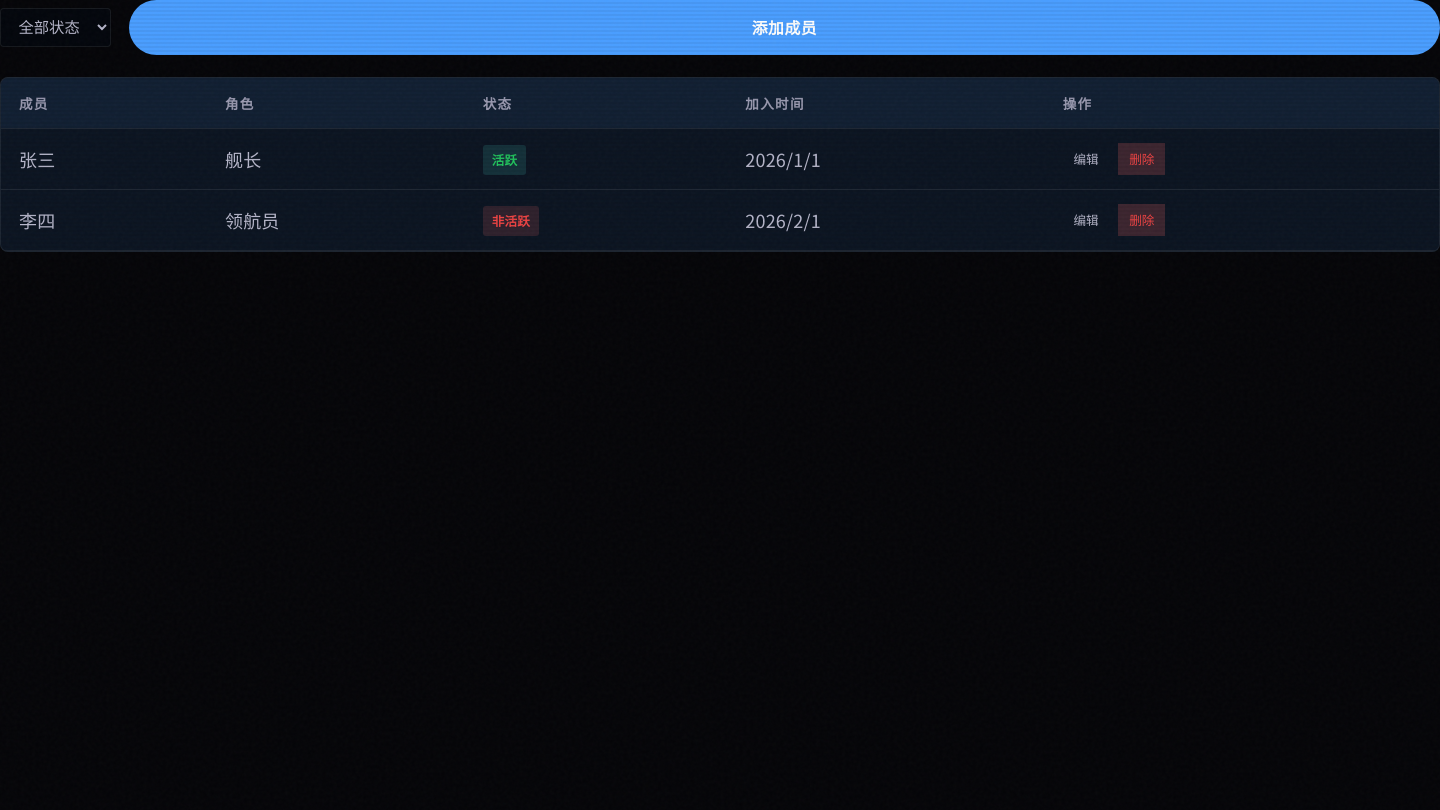
MembersAdmin 视图 › 点击「添加成员」应打开空表单弹窗
Click the button "添加成员" at (784, 27), box 129,0 -> 1439,54
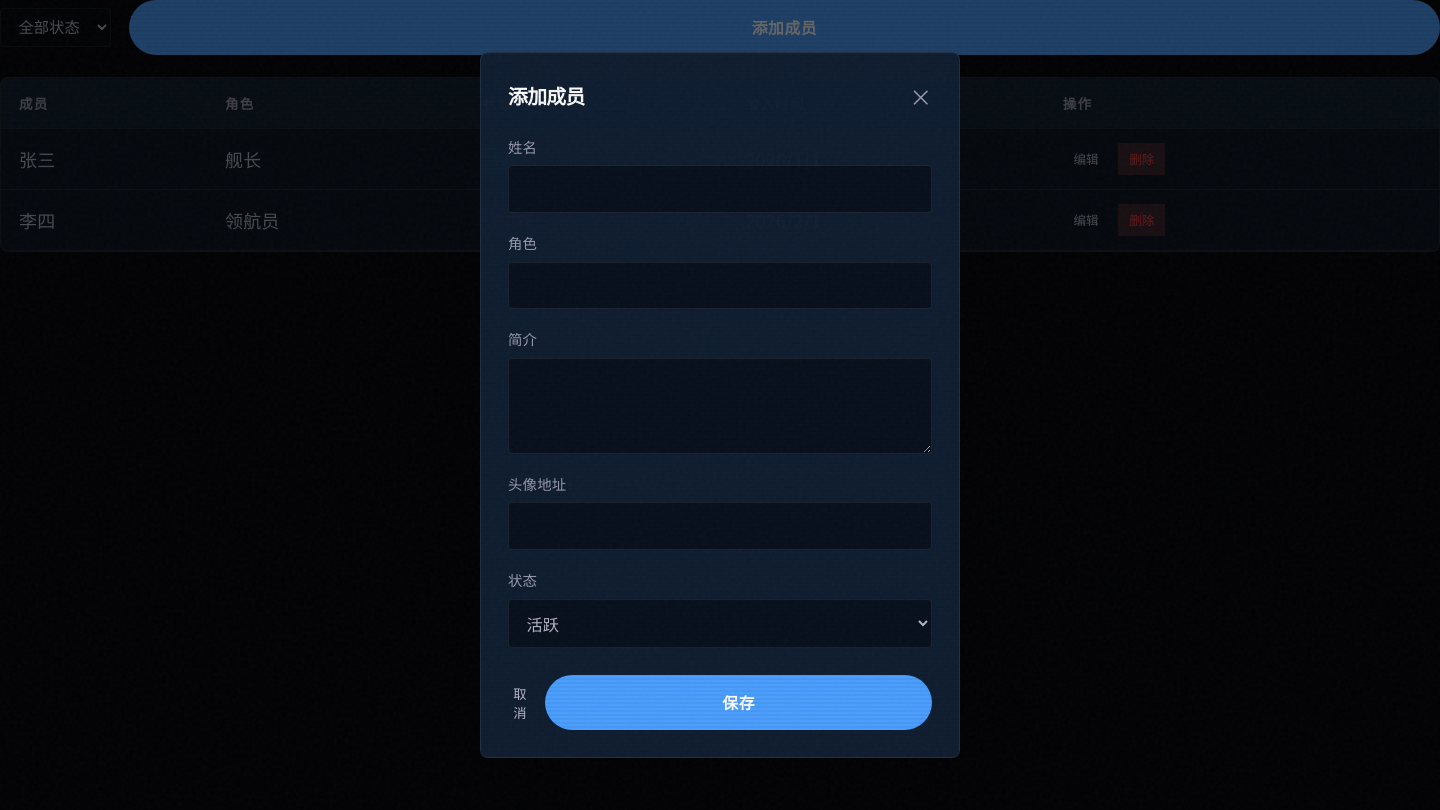
Expected: the element with class "modal-overlay" is shown
Expected: the heading "添加成员" is shown, 508,85 -> 585,107
Expected: the field named "name" below "姓名" is empty, 508,165 -> 932,213
